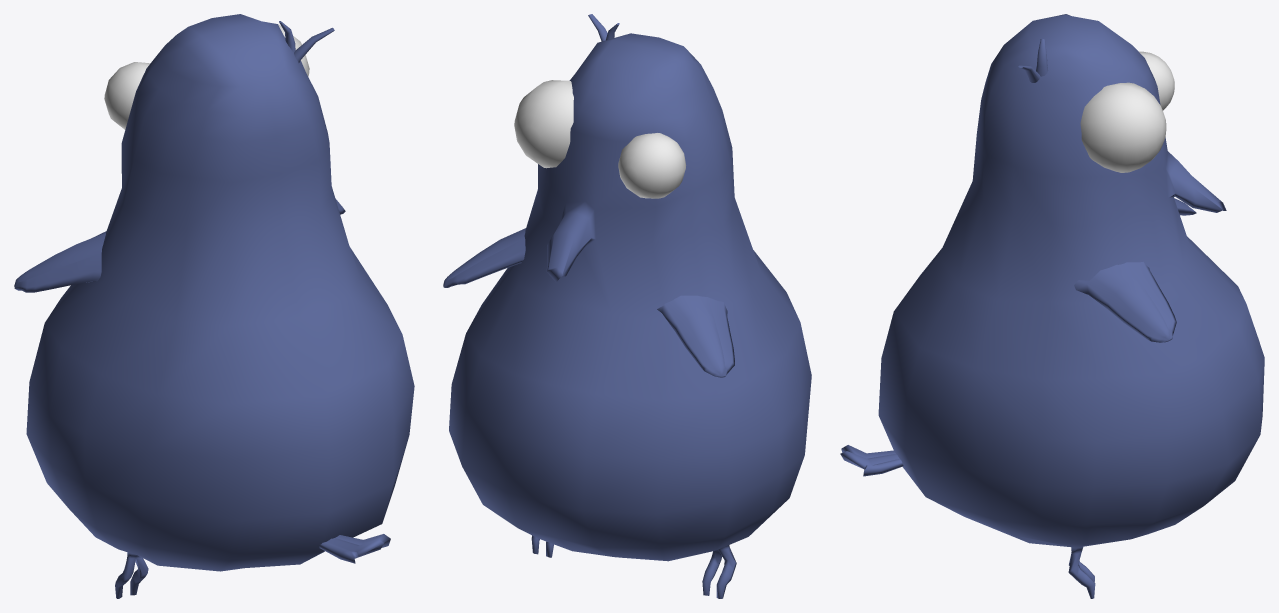
Rendered from BreadBaron_bigBird (2).fbx.
The picture shows the model from 3 angles, left to right: view 1: azimuth 30°, elevation 25°; view 2: azimuth 150°, elevation 25°; view 3: azimuth 270°, elevation 25°; orthographic projection. The views are drawn at different scales.
Parts seen in each view (by area): view 1: polySurface16, polySurface19, polySurface21, polySurface20; view 2: polySurface16, polySurface11, polySurface19, polySurface21, polySurface12; view 3: polySurface16, polySurface11, polySurface12, polySurface20, polySurface21.
Boxes of the visible parts, <box> form: polySurface16: <box>26,14,414,598</box>; polySurface19: <box>14,231,106,292</box>; polySurface21: <box>104,62,150,129</box>; polySurface20: <box>319,534,390,563</box>; polySurface16: <box>449,33,811,598</box>; polySurface11: <box>514,80,573,168</box>; polySurface19: <box>657,295,734,377</box>; polySurface21: <box>618,133,686,198</box>; polySurface12: <box>443,228,525,287</box>; polySurface16: <box>878,14,1264,598</box>; polySurface11: <box>1080,82,1166,172</box>; polySurface12: <box>1074,262,1176,342</box>; polySurface20: <box>840,445,903,476</box>; polySurface21: <box>1139,51,1174,110</box>.
Bounding box in the file's own units: 0.5115 × 0.8275 × 0.5997.
